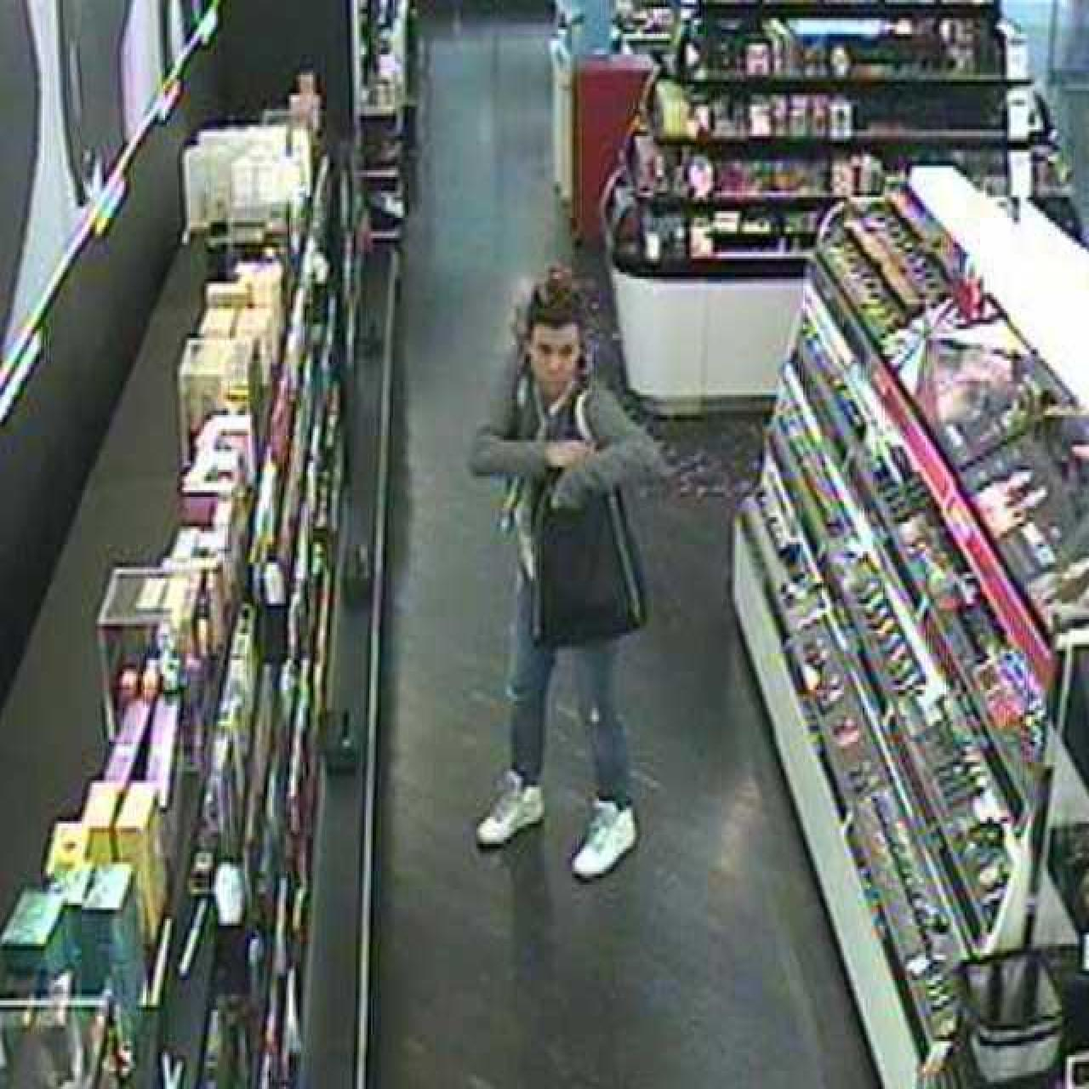shoplifting: (420, 411, 805, 708)
